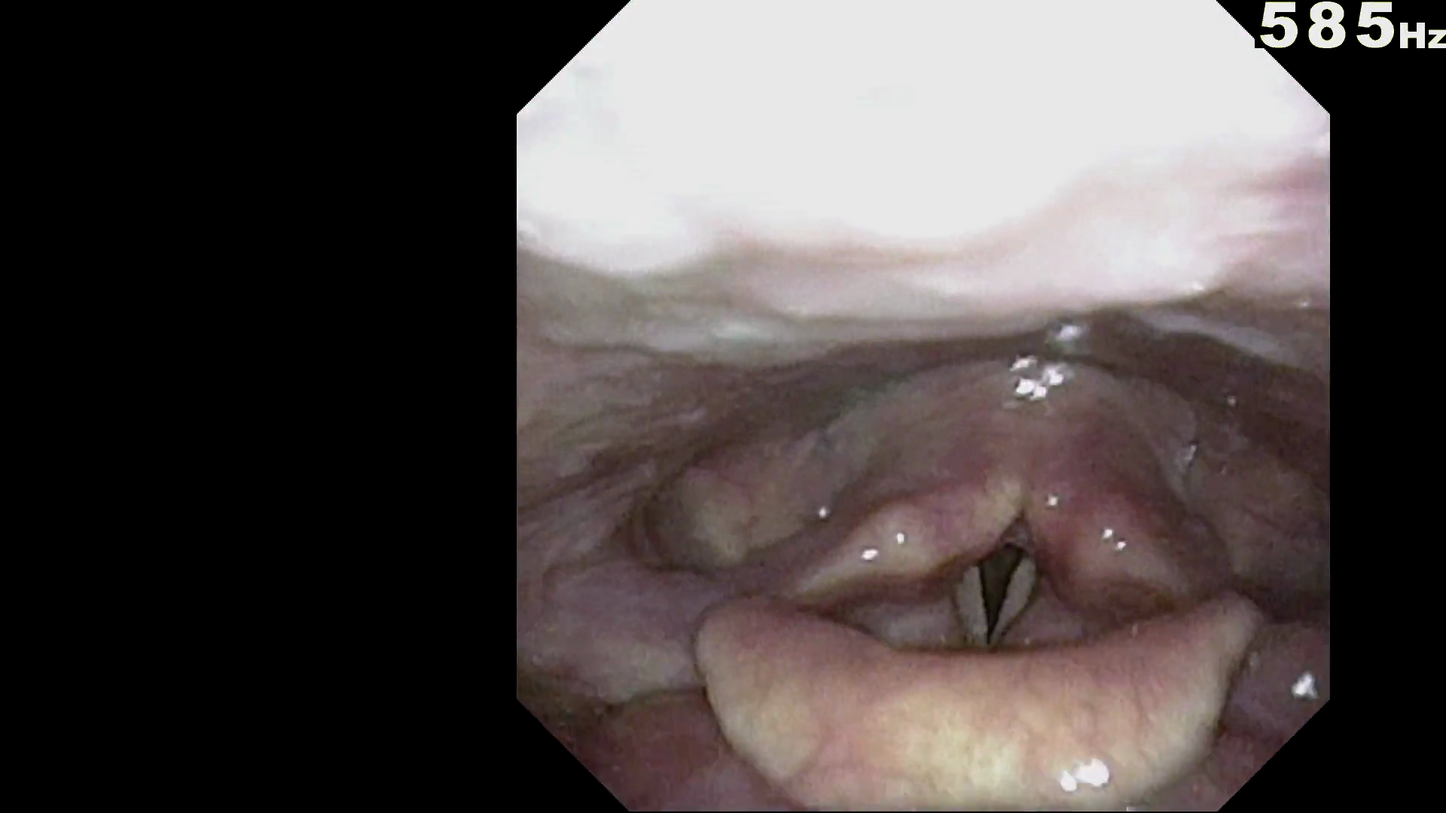epiglottis: (679, 602, 1221, 741)
trachea: (923, 533, 1051, 627)
